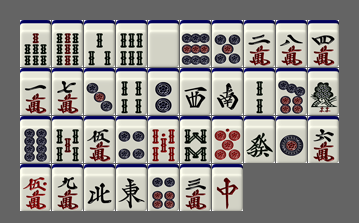0m: (20, 164, 51, 211)
0p: (212, 116, 243, 163)
0s: (148, 116, 179, 163)
1m: (20, 68, 51, 115)
1p: (276, 116, 307, 163)
1s: (308, 68, 339, 115)
1z: (116, 164, 147, 211)
2m: (244, 20, 275, 67)
2p: (148, 68, 179, 115)
2s: (244, 68, 275, 115)
2z: (212, 68, 243, 115)
3m: (180, 164, 211, 211)
3p: (84, 68, 115, 115)
3s: (84, 20, 115, 67)
3z: (180, 68, 211, 115)
4m: (308, 20, 339, 67)
4p: (116, 116, 147, 163)
4s: (116, 68, 147, 115)
4z: (84, 164, 115, 211)
5m: (84, 116, 115, 163)
5p: (212, 20, 243, 67)
5s: (52, 116, 83, 163)
5z: (148, 20, 179, 67)
6m: (308, 116, 339, 163)
6p: (148, 164, 179, 211)
6s: (116, 20, 147, 67)
6z: (244, 116, 275, 163)
7m: (52, 68, 83, 115)
7p: (276, 68, 307, 115)
7s: (20, 20, 51, 67)
7z: (212, 164, 243, 211)
8m: (276, 20, 307, 67)
8p: (20, 116, 51, 163)
8s: (180, 116, 211, 163)
9m: (52, 164, 83, 211)
9p: (180, 20, 211, 67)
9s: (52, 20, 83, 67)
